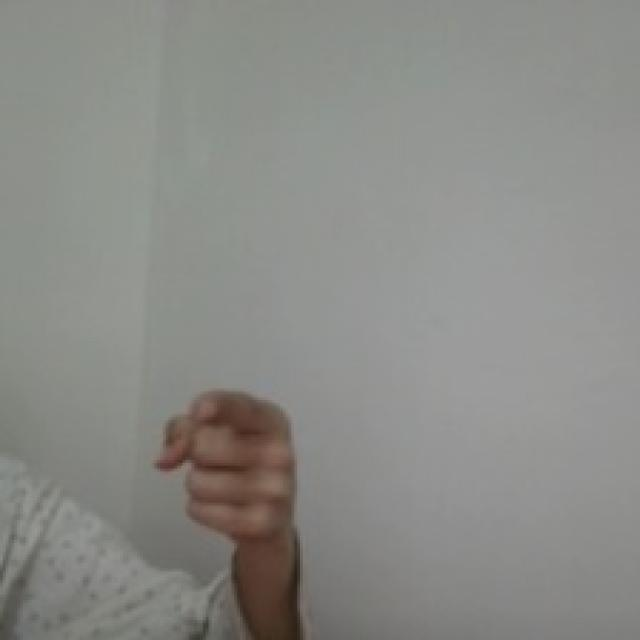you: (144, 383, 304, 544)
